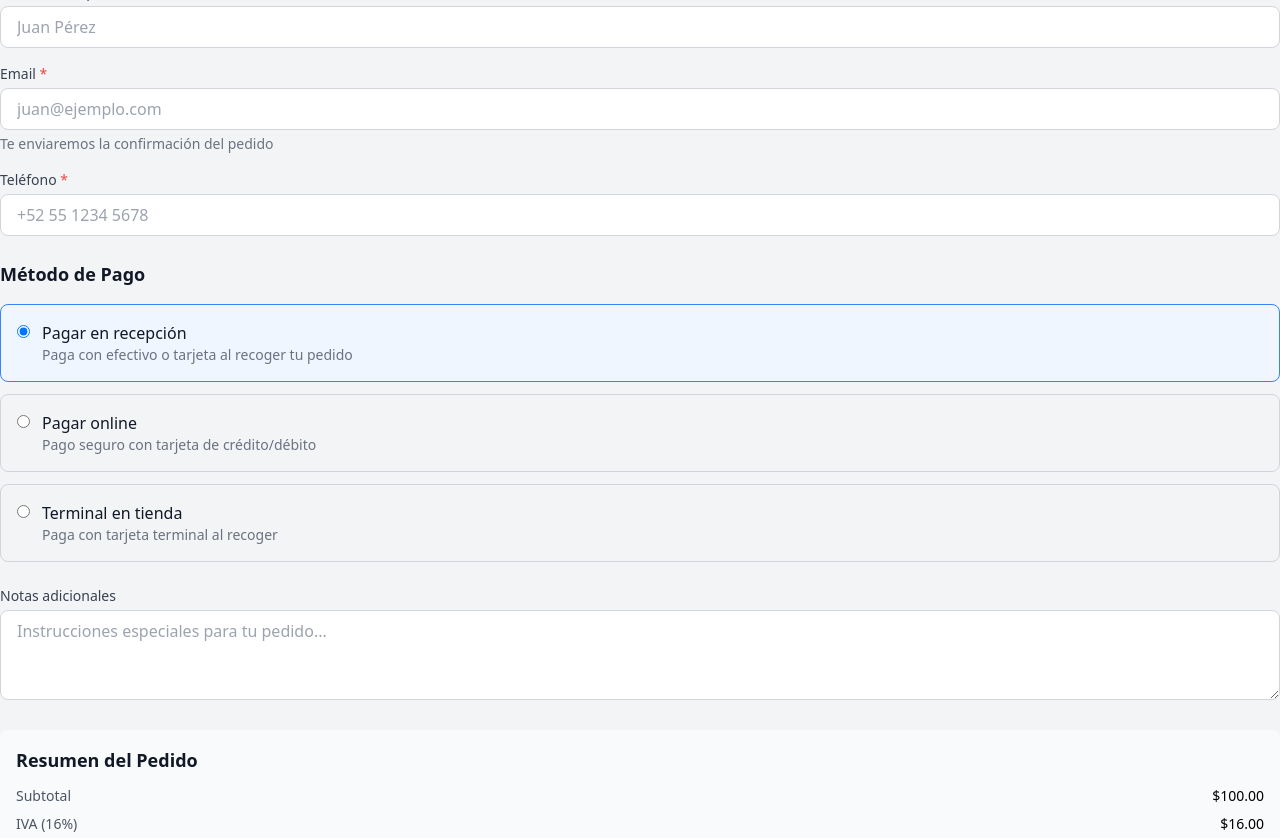
Test case: CheckoutForm › should show validation error for short name
This screenshot has width=1280, height=838.
Type "A" into the field labelled "Nombre completo *" at (640, 27), box [0,6,1279,48]
(page scrolled)
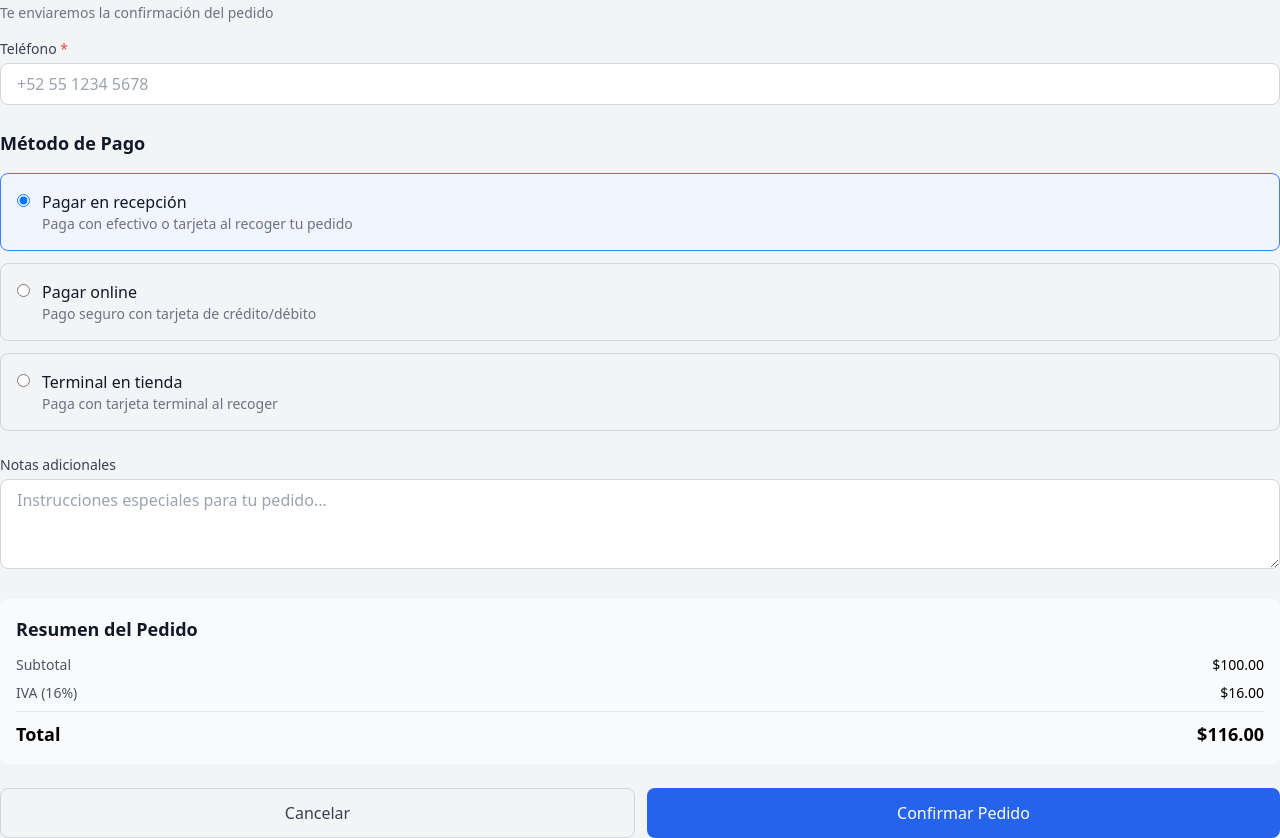
Click the button "Confirmar Pedido" at (964, 813), box [647,788,1279,837]
(page scrolled)
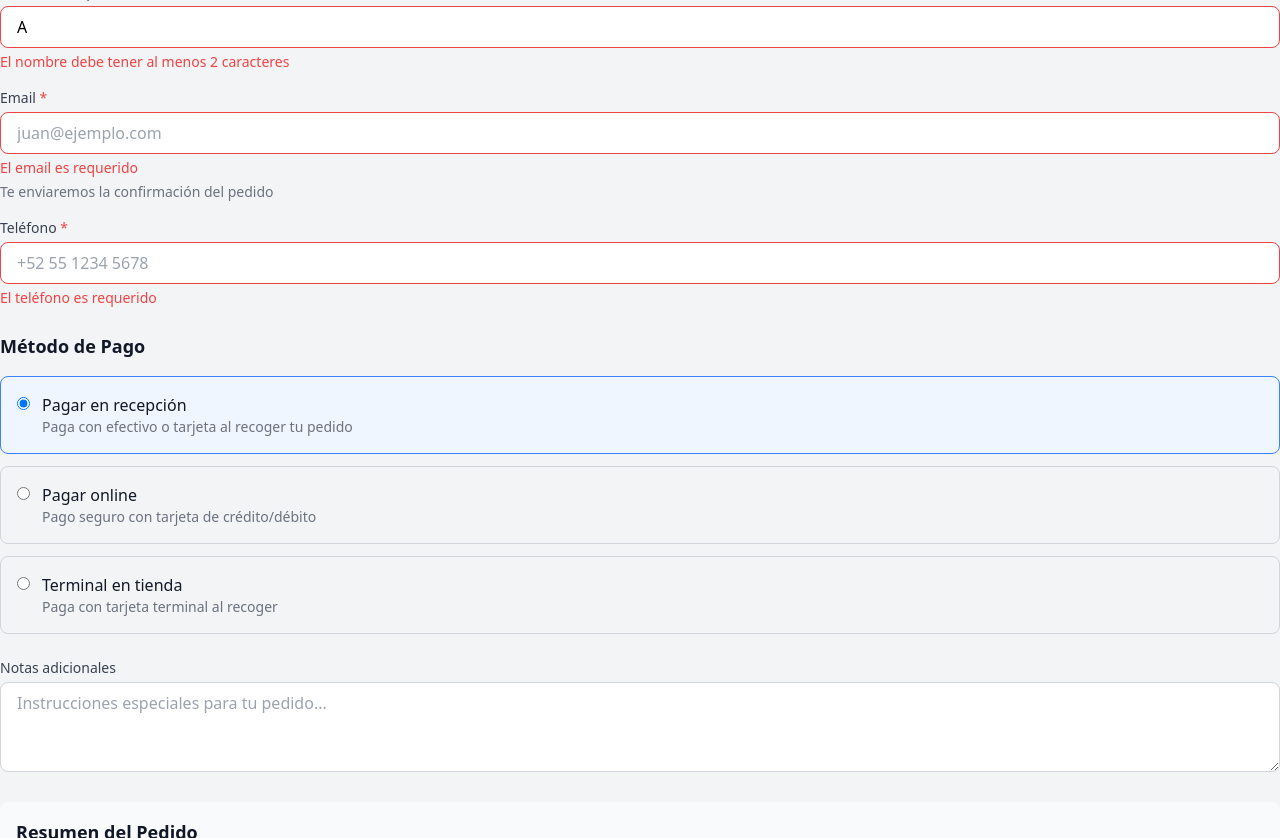
Check: the text "El nombre debe tener al menos 2 caracteres" is shown, box [0,52,289,71]
